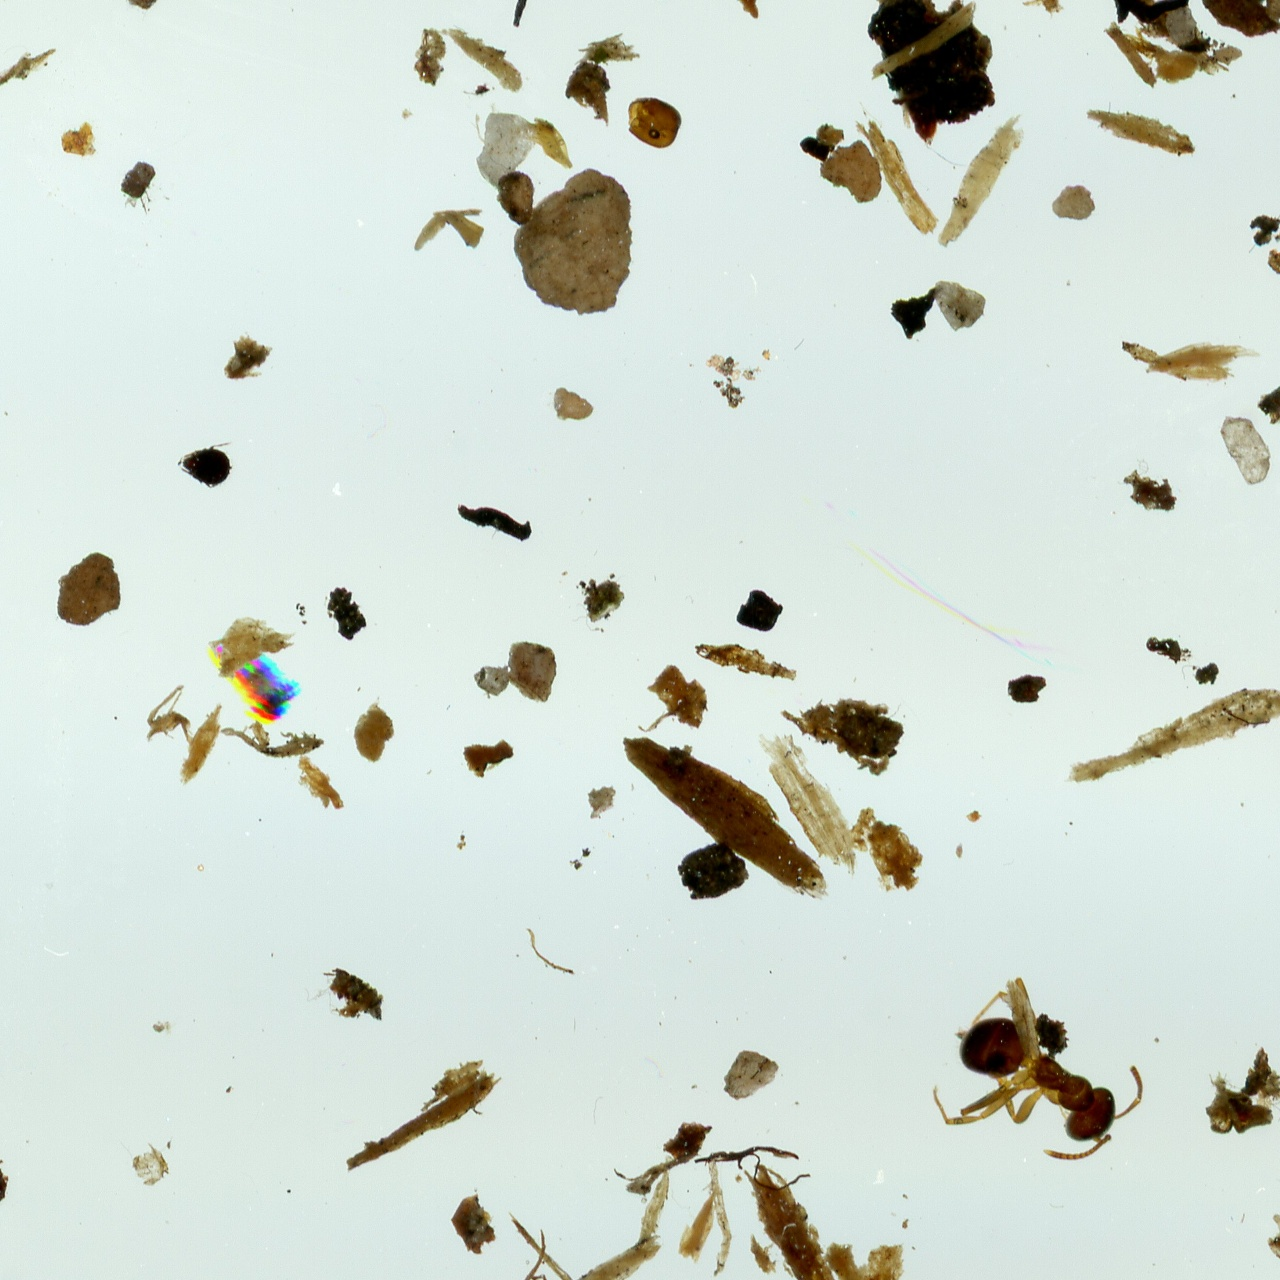arthropod: (927, 972, 1148, 1165), (176, 438, 234, 490), (0, 1143, 11, 1206)
